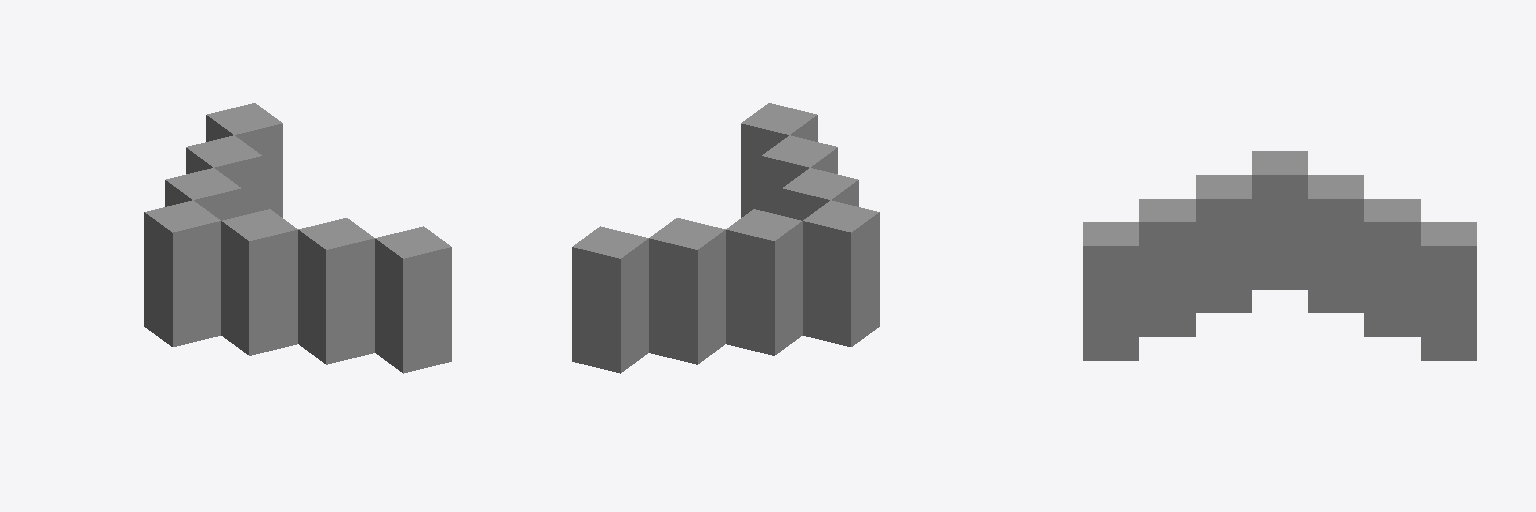
The model's file is Smaller_Than.obj.
3 views of the same model, side by side, from view 1: azimuth 30°, elevation 25°; view 2: azimuth 150°, elevation 25°; view 3: azimuth 270°, elevation 25° (orthographic).
Visible parts, largest first — view 1: Smaller_Than_CUABC.037; view 2: Smaller_Than_CUABC.037; view 3: Smaller_Than_CUABC.037.
Boxes of the visible parts, box(x1,y1,x2,y2) form: Smaller_Than_CUABC.037: box(144, 103, 451, 373); Smaller_Than_CUABC.037: box(572, 103, 879, 373); Smaller_Than_CUABC.037: box(1083, 151, 1476, 360).
Bounding box in the file's own units: 0.4444 × 0.25 × 0.7778.